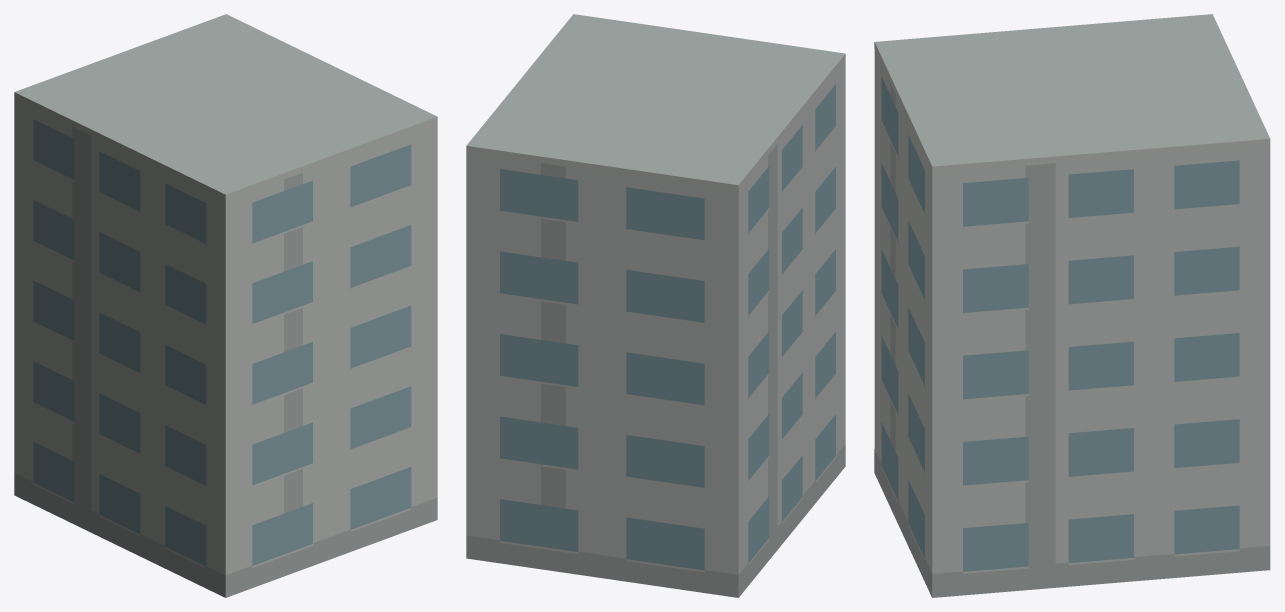
Rendered from residential-796ad917-3453-4f17-9c5b-075afc45aeae.glb.
3 renders of one model, left to right at view 1: azimuth 30°, elevation 25°; view 2: azimuth 150°, elevation 25°; view 3: azimuth 270°, elevation 25°, orthographic. The views are drawn at different scales.
Visible parts, largest first — view 1: residential-796ad917-3453-4f17-9c5b-075afc45aeae.tmp; view 2: residential-796ad917-3453-4f17-9c5b-075afc45aeae.tmp; view 3: residential-796ad917-3453-4f17-9c5b-075afc45aeae.tmp.
Part boxes in pixels (x1,y1,x2,y2): residential-796ad917-3453-4f17-9c5b-075afc45aeae.tmp: (14,14,437,597); residential-796ad917-3453-4f17-9c5b-075afc45aeae.tmp: (466,14,845,597); residential-796ad917-3453-4f17-9c5b-075afc45aeae.tmp: (874,14,1270,597).
Bounding box in the file's own units: 11.58 × 15.25 × 12.69.
